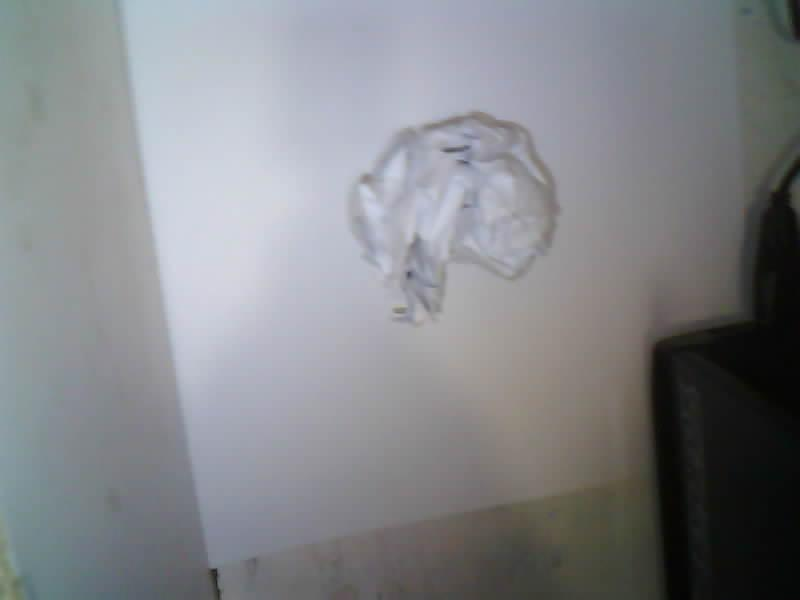biodegradable: (349, 113, 557, 322)
